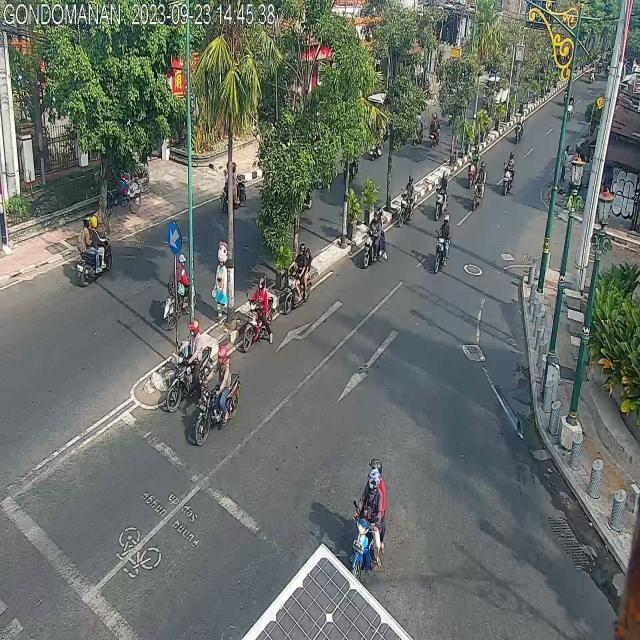motorcycle: (351, 450, 391, 588), (197, 342, 239, 444), (169, 315, 209, 412), (75, 216, 113, 289), (243, 269, 275, 355), (285, 238, 314, 316), (362, 209, 386, 273), (220, 163, 248, 209), (434, 207, 453, 274), (396, 166, 418, 223), (468, 158, 487, 218), (432, 168, 451, 220), (502, 144, 519, 202), (427, 108, 440, 149), (516, 101, 525, 145)
